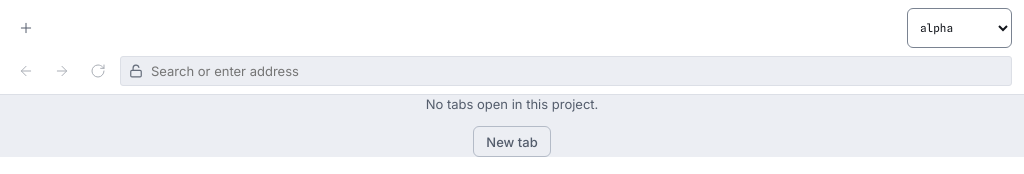
BrowserPage › hides the old project's tab when switching project
The image size is (1024, 174).
Click the button named "New tab".
click(26, 28)  # box x1=12 y1=14 x2=40 y2=42
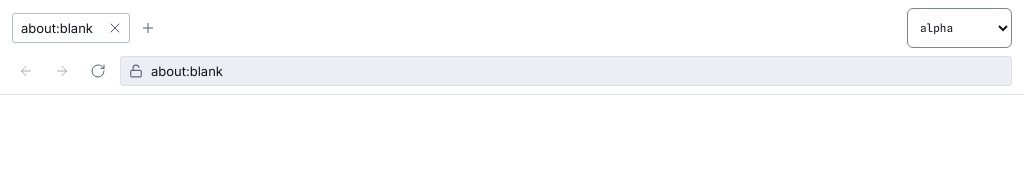
Select "beta" in the dropdown named "Project" at (960, 28), box x1=907 y1=8 x2=1012 y2=48
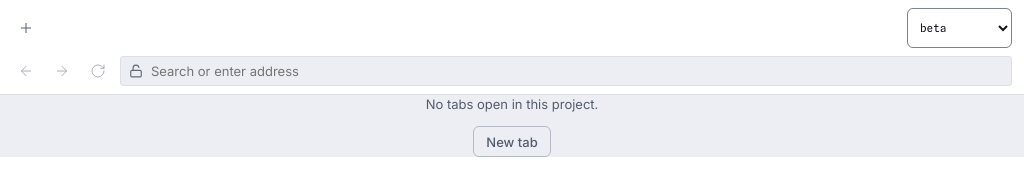
Result: the text "No tabs open in this project." is shown at x1=426 y1=94 x2=598 y2=114
